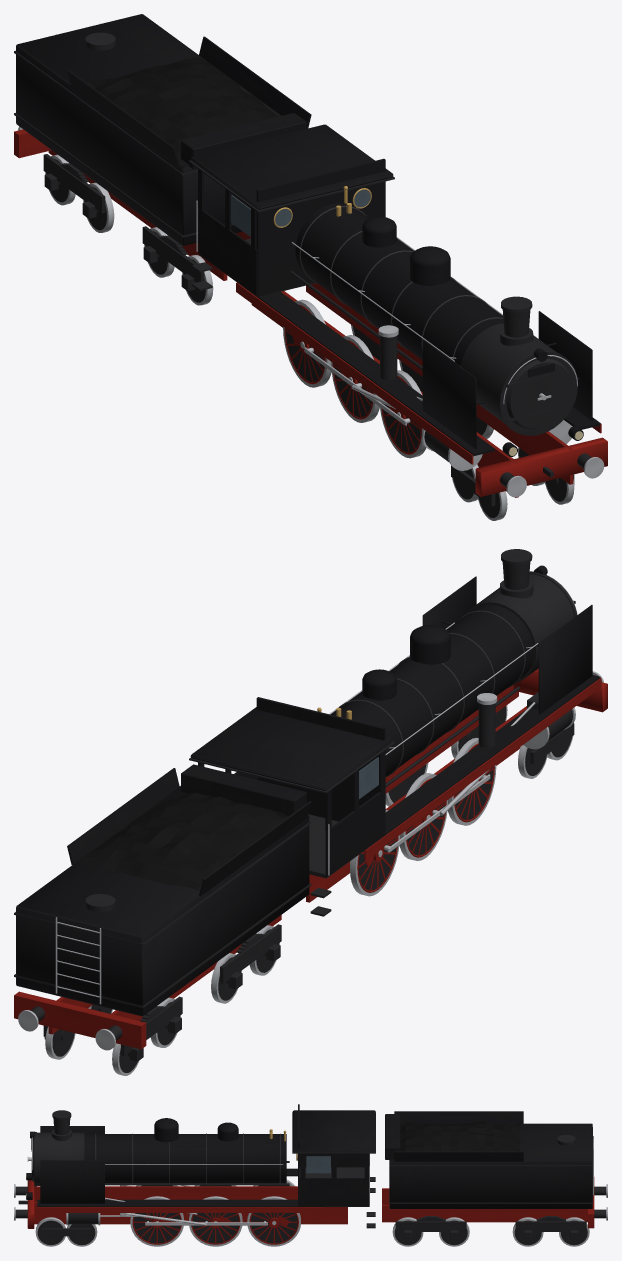
Rendered from OB_Lokomotywa.fbx.
3 views of the same model, one above another, from view 1: azimuth 30°, elevation 25°; view 2: azimuth 150°, elevation 25°; view 3: azimuth 270°, elevation 25° (orthographic). The views are drawn at different scales.
Visible parts, largest first — view 1: Lokomotywa; view 2: Lokomotywa; view 3: Lokomotywa.
Part boxes in pixels (box(x1,y1,x2,y2)): Lokomotywa: box(14, 14, 607, 520); Lokomotywa: box(14, 549, 607, 1075); Lokomotywa: box(14, 1104, 607, 1246).
Bounding box in the file's own units: 3.14 × 4.36 × 19.3.
